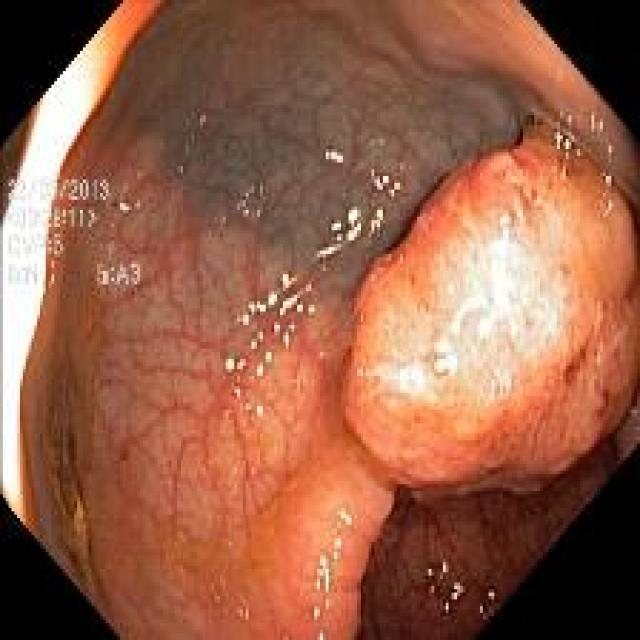Polyps: (345, 124, 640, 490)
